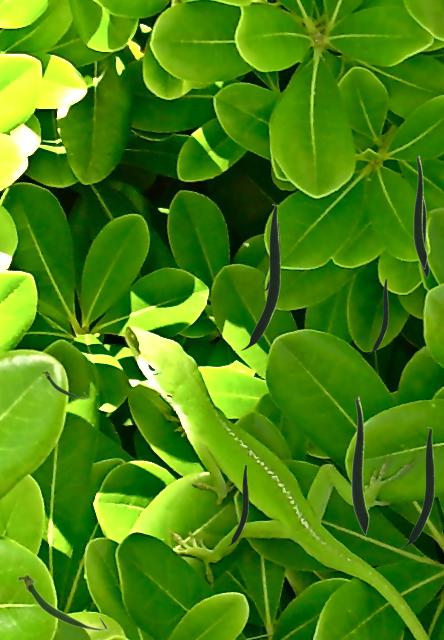french_bean: (240, 204, 279, 349), (16, 573, 107, 630), (401, 427, 433, 546), (351, 396, 368, 534), (227, 464, 247, 545), (413, 155, 426, 268), (369, 278, 387, 352), (41, 370, 87, 398), (263, 222, 279, 290), (420, 196, 428, 277)
